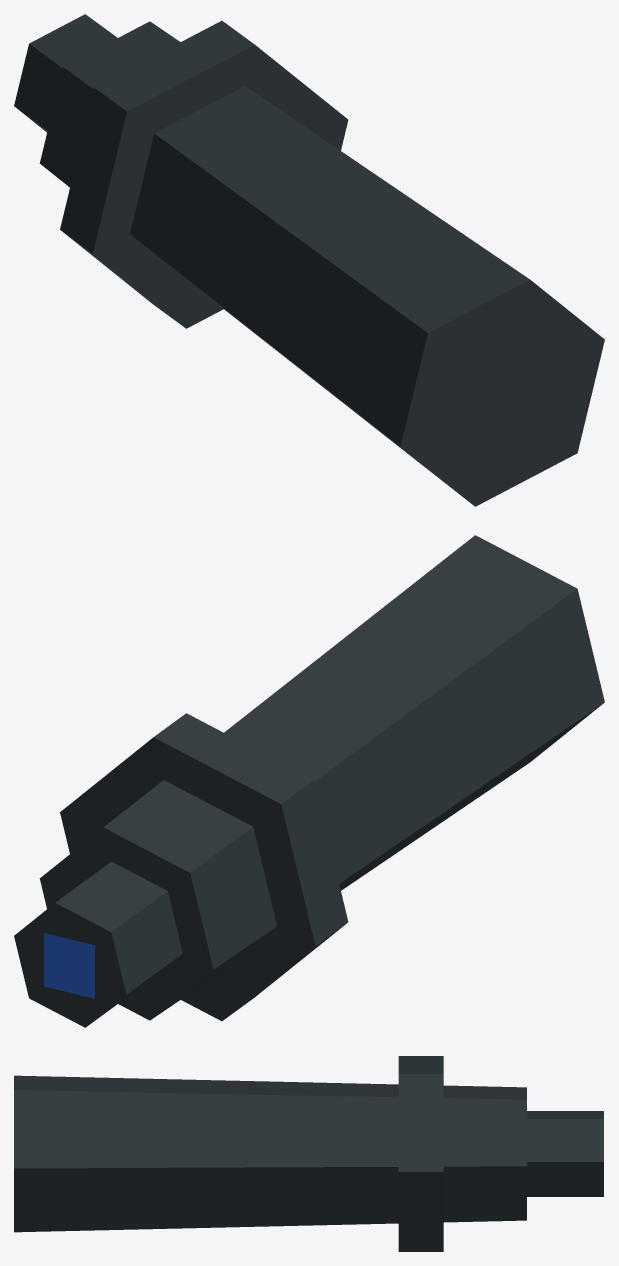
The picture shows the model from 3 angles, top to bottom: view 1: azimuth 30°, elevation 25°; view 2: azimuth 150°, elevation 25°; view 3: azimuth 270°, elevation 25°; orthographic projection. The views are drawn at different scales.
Parts seen in each view (by area): view 1: mount; view 2: mount; view 3: mount.
Part boxes in pixels (x1,y1,x2,y2): mount: (14,14,604,506); mount: (14,535,604,1027); mount: (14,1056,603,1251).
Bounding box in the file's own units: 6.28 × 6.28 × 18.43.
